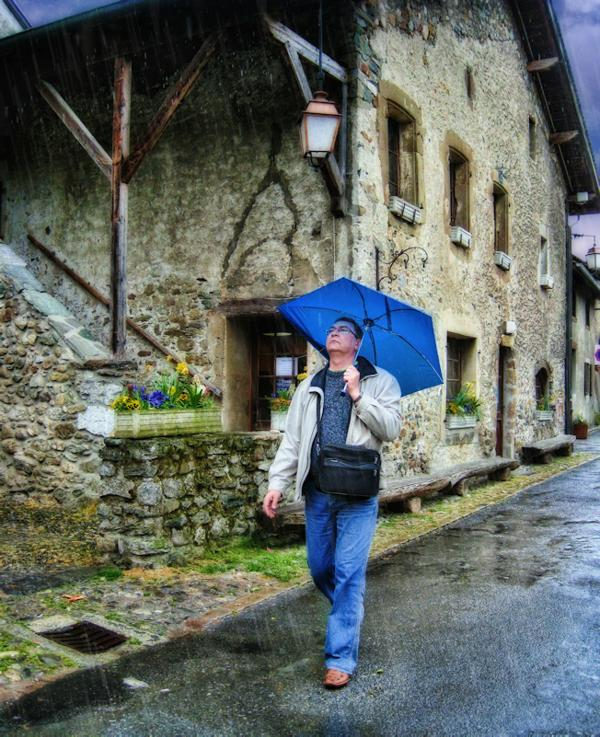person: (262, 316, 403, 688)
